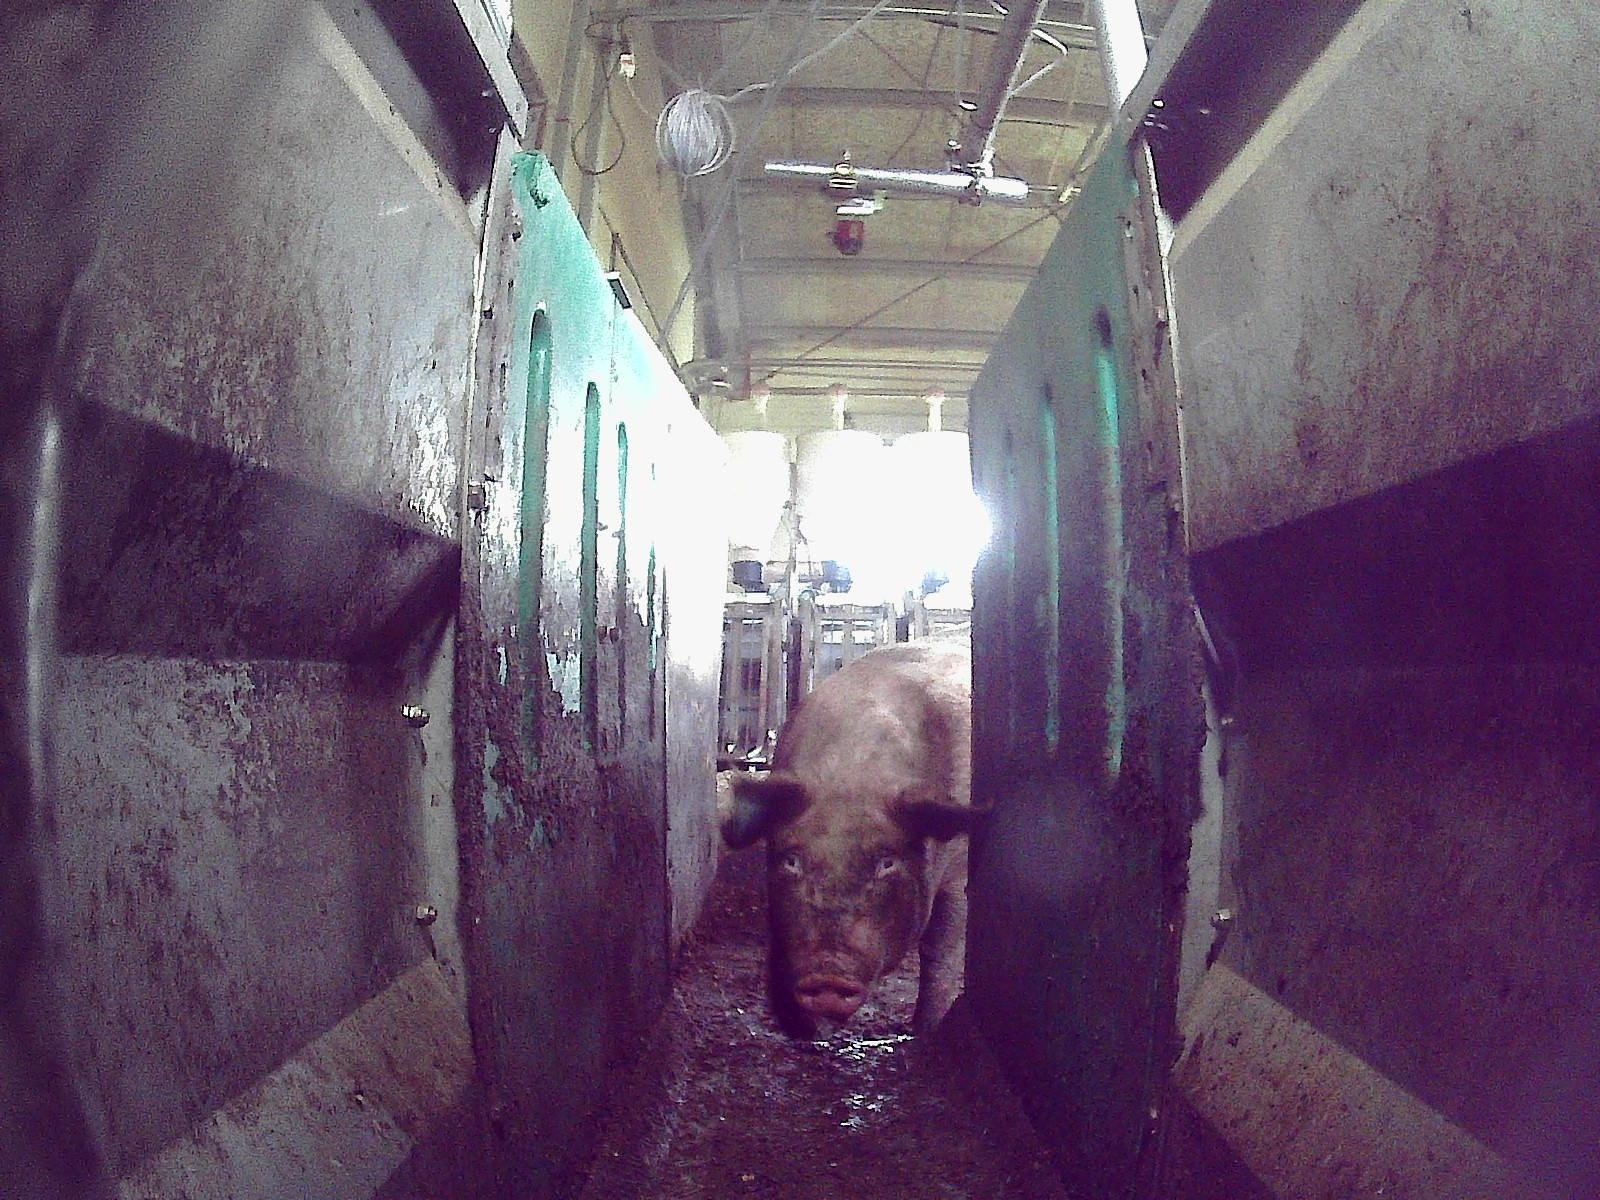Face: (774, 786, 931, 1016)
